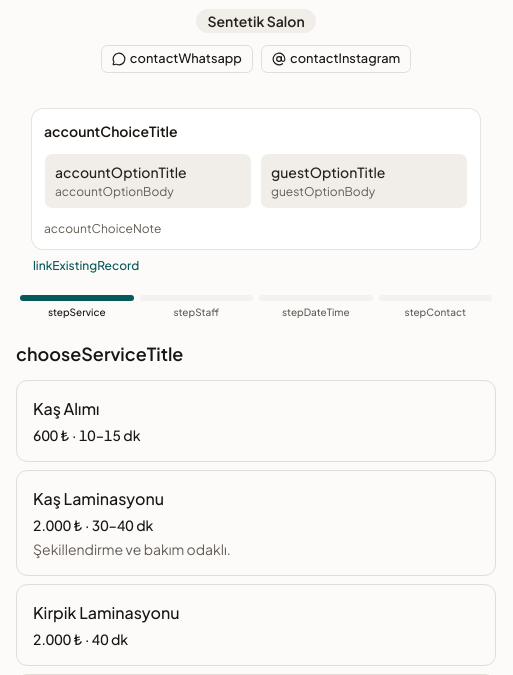
one eligible person is selected automatically › nobody eligible: a notice, no date step
Click the button with test id "service-card" at x=66, y=408, box [16, 380, 496, 462]
(page scrolled)
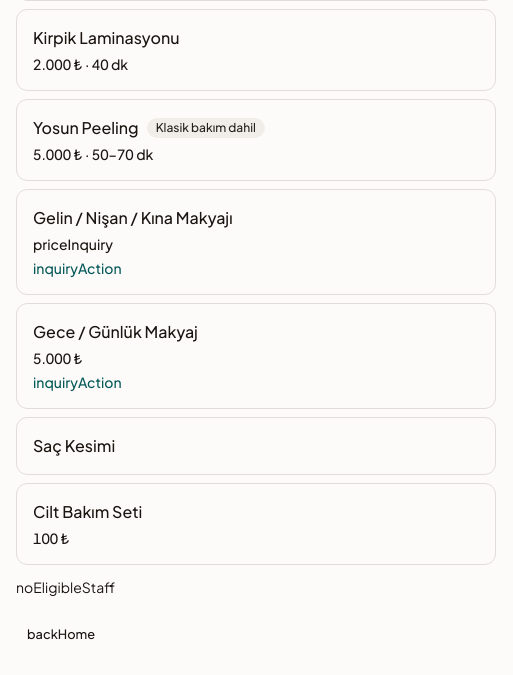
Expected: the text "noEligibleStaff" is shown, [16, 578, 115, 596]
